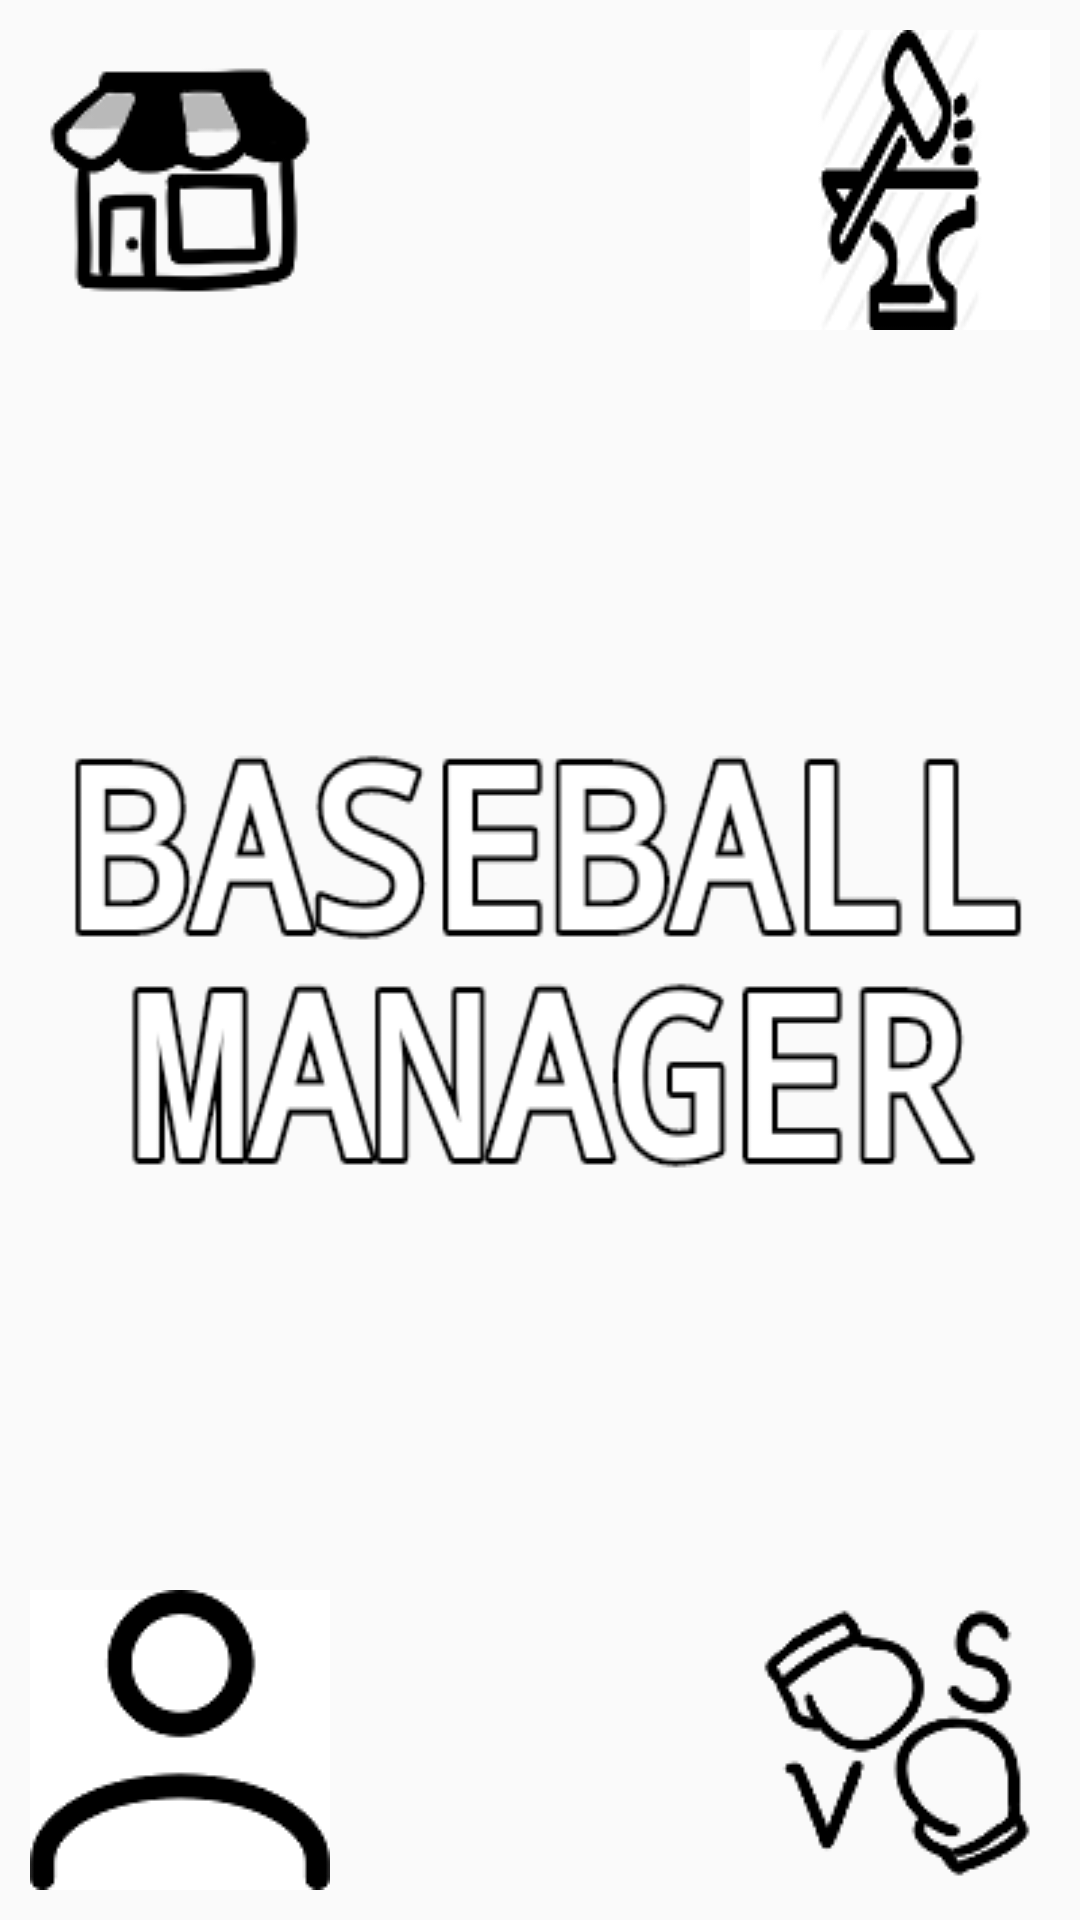

Icons on this 1080px x 1920px Android screen, each with its box as (x1, y1, x2, y2):
reinforce: (819, 30, 981, 330)
shop: (50, 68, 310, 292)
userinfo: (30, 1590, 330, 1890)
